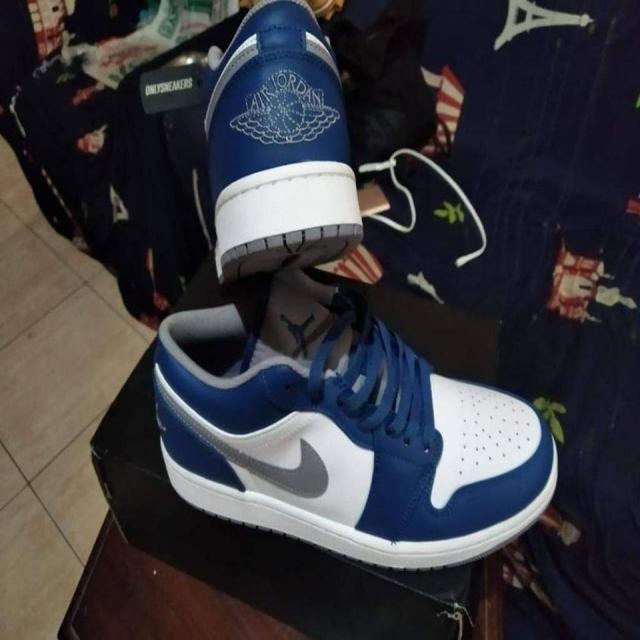nike original jordan 1: (152, 274, 562, 580), (203, 2, 364, 276)
